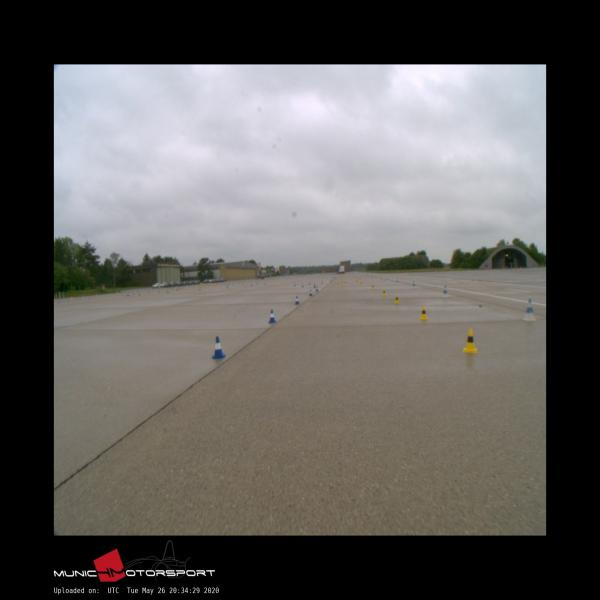blue_cone: (212, 337, 226, 358), (269, 310, 276, 322), (295, 296, 300, 304), (309, 289, 313, 296), (316, 286, 318, 291)
yellow_cone: (462, 329, 478, 352), (419, 306, 428, 320), (394, 294, 399, 303), (382, 289, 386, 296), (371, 284, 374, 289)
